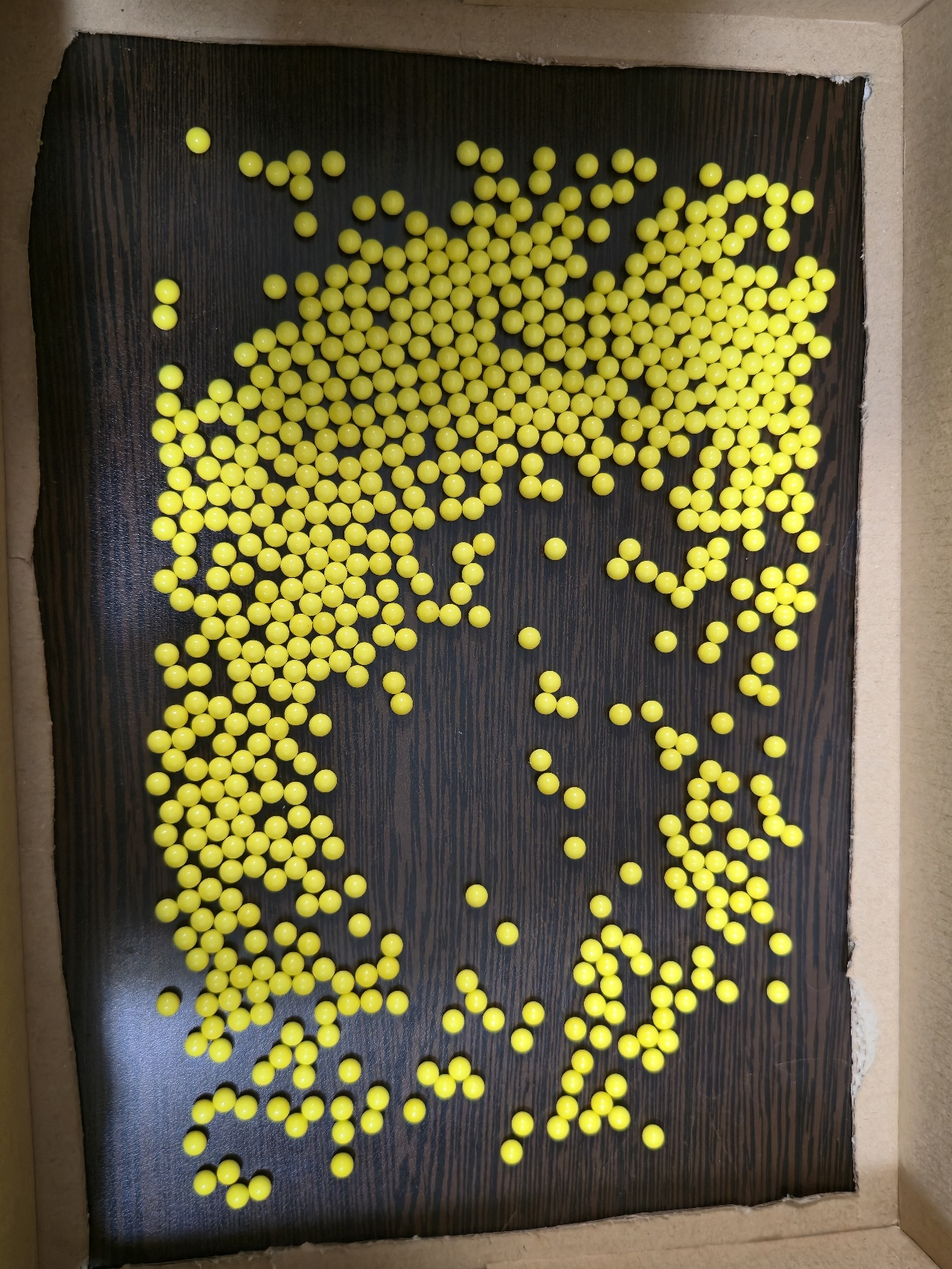yellow_bead: (158, 522, 172, 535), (212, 487, 225, 501), (173, 472, 187, 485), (202, 462, 216, 475), (216, 441, 230, 454), (213, 385, 227, 398), (253, 738, 266, 751), (185, 515, 198, 528), (237, 490, 250, 503), (226, 468, 239, 481), (240, 449, 253, 462), (158, 424, 171, 437), (307, 1102, 319, 1116), (422, 1067, 434, 1081), (344, 1064, 356, 1078), (595, 1030, 607, 1044), (178, 562, 192, 574), (188, 492, 202, 504), (194, 133, 205, 148), (506, 1146, 518, 1159), (336, 1102, 348, 1115), (454, 1062, 466, 1075), (516, 1034, 528, 1047), (286, 1028, 298, 1041), (320, 1006, 332, 1019), (337, 976, 349, 989), (666, 966, 678, 979), (196, 913, 208, 926), (756, 907, 769, 919), (204, 883, 216, 896), (205, 850, 218, 862), (211, 823, 224, 835), (152, 777, 164, 790), (237, 756, 250, 768), (168, 754, 181, 766), (253, 708, 266, 720), (213, 701, 226, 713), (231, 620, 244, 632), (253, 608, 266, 620), (176, 593, 189, 605), (308, 576, 321, 588), (218, 548, 231, 560), (244, 539, 257, 551), (269, 529, 282, 541), (234, 517, 247, 529), (210, 513, 223, 525), (333, 508, 346, 520), (164, 497, 176, 510), (320, 485, 332, 498), (187, 439, 200, 451), (181, 415, 193, 428), (242, 391, 255, 403), (791, 283, 804, 295), (517, 1117, 528, 1131), (614, 1111, 625, 1125), (528, 1007, 539, 1021), (590, 998, 601, 1012), (791, 412, 805, 423), (567, 1076, 579, 1088), (300, 1047, 312, 1059), (680, 995, 692, 1007), (224, 994, 236, 1006), (772, 986, 784, 998), (697, 973, 709, 985), (579, 968, 591, 980), (220, 954, 232, 966), (698, 951, 710, 963), (625, 939, 637, 951), (775, 938, 787, 950), (206, 936, 218, 948), (301, 899, 313, 911), (225, 893, 237, 905), (471, 890, 483, 902), (269, 873, 281, 885), (184, 870, 196, 882), (731, 866, 743, 878), (290, 862, 302, 874), (170, 849, 182, 861), (275, 844, 287, 856), (228, 841, 240, 853), (298, 840, 310, 852), (252, 837, 264, 849), (160, 829, 172, 841), (270, 821, 282, 833), (237, 820, 249, 832), (222, 803, 234, 815), (280, 743, 292, 755), (271, 722, 283, 734), (233, 664, 245, 676), (161, 649, 173, 661), (358, 648, 370, 660), (378, 629, 390, 641), (207, 622, 219, 634), (349, 582, 361, 594), (416, 578, 428, 590), (286, 559, 298, 571), (352, 559, 364, 571), (263, 553, 275, 565), (372, 535, 384, 547), (315, 530, 327, 542), (257, 509, 269, 521), (358, 505, 370, 517), (344, 486, 356, 498), (301, 470, 313, 482), (422, 466, 434, 478), (344, 463, 356, 475), (280, 459, 292, 471), (263, 442, 275, 454), (718, 433, 730, 445), (242, 426, 254, 438), (202, 405, 214, 417), (768, 396, 780, 408), (284, 376, 296, 388), (814, 341, 826, 353), (259, 335, 271, 347), (750, 293, 762, 305), (817, 274, 829, 286), (718, 263, 730, 275), (769, 211, 781, 223), (730, 186, 742, 198), (245, 158, 257, 170), (648, 1130, 659, 1143), (468, 1081, 479, 1094), (440, 1080, 451, 1093), (611, 1079, 622, 1092), (257, 1068, 268, 1081), (570, 1023, 581, 1036), (448, 1015, 459, 1028), (609, 1006, 620, 1019), (392, 996, 403, 1009), (275, 977, 286, 990), (318, 963, 329, 976), (257, 963, 270, 974), (180, 932, 191, 945), (225, 866, 238, 877), (189, 834, 202, 845), (785, 830, 798, 841), (768, 821, 781, 832), (316, 820, 327, 833), (165, 806, 178, 817), (214, 762, 227, 773), (153, 736, 166, 747), (230, 719, 243, 730), (190, 697, 203, 708), (238, 687, 251, 698), (274, 684, 287, 695), (247, 646, 260, 657), (292, 643, 305, 654), (223, 643, 236, 654), (271, 627, 284, 638), (212, 572, 223, 585), (310, 507, 323, 518), (250, 472, 263, 483), (800, 452, 813, 463), (742, 431, 755, 442), (795, 390, 808, 401), (809, 296, 822, 307), (752, 179, 763, 192), (161, 310, 171, 324), (553, 1122, 564, 1134), (585, 1117, 596, 1129), (366, 1117, 378, 1128), (648, 1055, 659, 1067), (577, 1055, 588, 1067), (274, 1053, 286, 1064), (234, 1015, 245, 1027), (256, 1009, 268, 1020), (656, 991, 668, 1002), (721, 986, 733, 997), (298, 978, 309, 990), (461, 975, 472, 987), (636, 958, 647, 970), (287, 957, 299, 968), (250, 936, 262, 947), (354, 919, 365, 931), (219, 917, 231, 928), (711, 914, 723, 925), (161, 905, 173, 916), (324, 896, 336, 907), (183, 896, 195, 907), (752, 882, 764, 893), (350, 880, 361, 892), (626, 867, 637, 879), (753, 844, 765, 855), (327, 842, 338, 854), (695, 828, 707, 839), (715, 806, 727, 817), (266, 786, 278, 797), (756, 780, 768, 791), (320, 775, 332, 786), (705, 765, 716, 777), (315, 719, 327, 730), (298, 687, 310, 698), (544, 676, 556, 687), (170, 671, 182, 682), (289, 665, 300, 677), (334, 655, 346, 666), (316, 641, 328, 652), (781, 634, 793, 645), (445, 609, 456, 621), (305, 599, 317, 610), (286, 583, 298, 594), (660, 577, 672, 588), (689, 574, 701, 585), (766, 572, 778, 583), (467, 568, 478, 580), (402, 561, 414, 572), (692, 552, 704, 563), (458, 547, 469, 559), (803, 536, 815, 547), (704, 515, 715, 527), (724, 515, 736, 526), (288, 515, 300, 526), (797, 498, 809, 509), (696, 495, 707, 507), (725, 492, 736, 504), (268, 489, 280, 500), (448, 480, 460, 491), (365, 478, 377, 489), (397, 471, 408, 483), (775, 458, 787, 469), (321, 457, 332, 469), (443, 457, 455, 468), (466, 454, 477, 466), (365, 454, 377, 465), (300, 446, 312, 457), (804, 431, 816, 442), (523, 430, 534, 442), (285, 427, 297, 438), (389, 420, 400, 432), (538, 414, 550, 425), (227, 407, 239, 418), (554, 395, 565, 407), (721, 393, 733, 404), (757, 377, 768, 389), (732, 373, 743, 385), (690, 362, 701, 374), (747, 358, 758, 370), (274, 353, 286, 364), (759, 338, 770, 350), (798, 327, 810, 338), (396, 303, 407, 315), (800, 262, 812, 273), (740, 220, 752, 231), (797, 196, 808, 208), (624, 1040, 634, 1053), (367, 995, 377, 1008), (248, 861, 261, 871), (193, 668, 206, 678), (159, 578, 172, 588), (164, 285, 174, 298), (169, 370, 178, 384), (663, 1036, 674, 1047), (602, 959, 613, 970), (502, 928, 513, 939), (681, 892, 692, 903), (308, 876, 319, 887), (710, 856, 721, 867), (733, 833, 744, 844), (665, 820, 676, 831), (183, 789, 194, 800), (693, 783, 704, 794), (666, 754, 677, 765), (540, 698, 551, 709), (757, 658, 768, 669), (661, 636, 672, 647), (474, 611, 485, 622), (362, 601, 373, 612), (761, 597, 772, 608), (677, 592, 688, 603), (327, 591, 338, 602), (382, 585, 393, 596), (641, 566, 652, 577), (710, 565, 721, 576), (334, 544, 345, 555), (713, 543, 724, 554), (550, 543, 561, 554), (419, 513, 430, 524), (468, 503, 479, 514), (379, 496, 390, 507), (675, 492, 686, 503), (408, 492, 419, 503), (547, 484, 558, 495), (736, 473, 747, 484), (699, 473, 710, 484), (584, 460, 595, 471), (733, 451, 744, 462), (502, 449, 513, 460), (388, 449, 399, 460), (167, 449, 178, 460), (597, 442, 608, 453), (408, 438, 419, 449), (547, 437, 558, 448), (654, 431, 665, 442), (587, 422, 598, 433), (462, 420, 473, 431), (774, 419, 785, 430), (562, 417, 573, 428), (412, 415, 423, 426), (754, 412, 765, 423), (731, 412, 742, 423), (710, 412, 721, 423), (701, 388, 712, 399), (257, 371, 268, 382), (768, 359, 779, 370), (365, 355, 376, 366), (297, 347, 308, 358), (458, 315, 469, 326), (437, 305, 448, 316), (350, 290, 361, 301), (272, 168, 283, 179), (605, 982, 617, 992), (587, 945, 597, 957), (387, 939, 397, 951), (607, 930, 617, 942), (596, 901, 606, 913), (736, 896, 746, 908), (689, 855, 699, 867), (672, 841, 684, 851), (245, 797, 257, 807), (230, 780, 242, 790), (769, 742, 781, 752), (352, 671, 364, 681), (456, 588, 466, 600), (736, 584, 748, 594), (791, 569, 803, 579), (312, 553, 324, 563), (787, 517, 799, 527), (748, 491, 760, 501), (486, 466, 498, 476), (482, 436, 492, 448), (370, 431, 380, 443), (498, 422, 510, 432), (264, 416, 274, 428), (404, 393, 414, 405), (500, 393, 510, 405), (739, 332, 749, 344), (774, 319, 784, 331), (762, 271, 772, 283), (740, 271, 750, 283), (177, 733, 190, 742), (190, 640, 203, 649), (178, 541, 191, 550), (745, 515, 758, 524), (209, 1023, 219, 1034), (192, 954, 203, 964), (280, 928, 291, 938), (671, 873, 681, 884), (570, 842, 580, 853), (194, 812, 205, 822), (692, 806, 703, 816), (764, 800, 775, 810), (570, 792, 580, 803), (724, 777, 734, 788), (536, 754, 546, 765), (682, 739, 692, 750), (662, 732, 672, 743), (615, 709, 626, 719), (745, 680, 756, 690), (704, 648, 715, 658), (524, 633, 535, 643), (712, 627, 723, 637), (743, 616, 754, 626), (800, 597, 811, 607), (613, 563, 623, 574), (350, 529, 361, 539), (683, 515, 694, 525), (527, 459, 538, 469), (706, 452, 716, 463), (644, 452, 655, 462), (619, 449, 630, 459), (569, 439, 580, 449), (669, 414, 679, 425), (517, 408, 527, 419), (289, 404, 300, 414), (599, 401, 609, 412), (577, 399, 588, 409), (681, 396, 692, 406), (533, 391, 543, 402), (379, 375, 390, 385), (546, 373, 556, 384), (402, 370, 412, 381), (389, 350, 399, 361), (415, 342, 425, 353), (437, 329, 448, 339), (418, 317, 428, 328), (753, 316, 763, 327), (733, 311, 743, 322), (634, 304, 644, 315), (690, 299, 700, 310), (328, 294, 338, 305), (416, 292, 426, 303), (669, 292, 679, 303), (728, 289, 738, 300), (254, 1182, 266, 1191), (289, 791, 301, 800), (190, 763, 202, 772), (219, 739, 231, 748), (779, 611, 791, 620), (261, 585, 273, 594), (396, 515, 408, 524), (675, 440, 684, 452), (516, 376, 525, 388), (718, 327, 727, 339), (707, 245, 716, 257), (712, 223, 721, 235), (199, 603, 212, 611), (713, 892, 723, 902), (718, 718, 728, 728), (647, 706, 657, 716), (764, 690, 774, 700), (376, 558, 386, 568), (648, 474, 658, 484), (759, 471, 769, 481), (165, 398, 175, 408), (314, 366, 324, 376), (726, 352, 736, 362), (706, 346, 716, 356), (685, 341, 695, 351), (480, 325, 490, 335), (357, 313, 367, 323), (457, 292, 467, 302), (270, 282, 280, 292), (412, 245, 422, 255), (692, 207, 702, 217), (641, 164, 651, 174), (339, 1161, 348, 1172), (215, 1044, 226, 1053), (254, 986, 263, 997), (213, 976, 222, 987), (207, 785, 218, 794), (170, 710, 181, 719), (396, 698, 407, 707), (257, 672, 268, 681), (401, 634, 412, 643), (782, 588, 791, 599), (446, 504, 457, 513), (599, 478, 608, 489), (321, 436, 332, 445), (443, 433, 452, 444), (346, 429, 355, 440), (692, 417, 701, 428), (314, 412, 323, 423), (437, 411, 446, 422), (267, 394, 278, 403), (474, 385, 483, 396), (358, 382, 367, 393), (591, 380, 600, 391), (713, 368, 722, 379), (605, 362, 614, 373), (344, 362, 353, 373), (507, 355, 518, 364), (282, 329, 293, 338), (396, 327, 405, 338), (698, 321, 707, 332), (677, 317, 686, 328), (509, 316, 518, 327), (713, 304, 722, 315), (374, 294, 385, 303), (708, 282, 717, 293), (713, 200, 722, 211), (412, 1106, 420, 1118), (240, 1102, 252, 1110), (219, 1094, 231, 1102), (293, 815, 305, 823), (299, 762, 311, 770), (312, 667, 324, 675), (387, 608, 399, 616), (236, 568, 248, 576), (396, 539, 408, 547), (244, 349, 252, 361), (329, 571, 342, 578), (389, 677, 399, 686), (228, 601, 237, 611), (486, 489, 496, 498), (361, 410, 370, 420), (483, 407, 492, 417), (625, 402, 634, 412), (381, 399, 391, 408), (614, 383, 623, 393), (675, 375, 684, 385), (329, 343, 338, 353), (660, 331, 669, 341), (570, 304, 579, 314), (485, 302, 494, 312), (614, 296, 623, 306), (550, 293, 559, 303), (631, 282, 640, 292), (652, 276, 661, 286), (393, 276, 402, 286), (553, 270, 562, 280), (518, 262, 527, 272), (538, 251, 547, 261), (368, 246, 377, 256), (663, 214, 672, 224), (565, 1102, 573, 1113), (191, 1039, 202, 1047), (243, 909, 254, 917), (260, 768, 271, 776), (478, 539, 489, 547), (292, 495, 303, 503), (646, 411, 654, 422), (654, 370, 662, 381), (620, 341, 628, 352), (464, 339, 472, 350), (351, 335, 359, 346), (312, 327, 320, 338), (530, 306, 538, 317), (669, 261, 677, 272), (688, 252, 696, 263), (559, 242, 567, 253), (599, 190, 607, 201), (620, 185, 628, 196), (372, 1092, 384, 1099), (298, 1072, 310, 1079), (475, 996, 482, 1008), (290, 712, 302, 719), (271, 655, 283, 662), (341, 636, 353, 643), (341, 613, 353, 620), (277, 608, 289, 615), (552, 318, 559, 330), (295, 619, 304, 628), (309, 388, 318, 397), (572, 353, 581, 362), (596, 321, 605, 330), (687, 275, 696, 284), (457, 269, 466, 278), (356, 267, 365, 276), (634, 260, 643, 269), (495, 245, 504, 254), (475, 233, 484, 242), (481, 210, 490, 219), (550, 209, 559, 218), (362, 969, 370, 979), (383, 963, 393, 971), (198, 719, 208, 727), (456, 399, 464, 409), (660, 393, 668, 403), (630, 362, 638, 372), (531, 358, 539, 368), (647, 349, 655, 359), (657, 309, 665, 319), (530, 283, 538, 293), (498, 269, 506, 279), (416, 269, 424, 279), (574, 260, 582, 270), (390, 254, 400, 262), (292, 542, 305, 548), (488, 1013, 499, 1020), (562, 706, 573, 713), (525, 485, 536, 492), (640, 327, 647, 338), (439, 281, 446, 292), (598, 225, 605, 236), (326, 1030, 335, 1038), (345, 1001, 353, 1010), (629, 425, 637, 434), (332, 385, 341, 393), (570, 376, 579, 384), (670, 353, 678, 362), (347, 237, 356, 245), (505, 184, 513, 193), (707, 169, 716, 177), (295, 159, 304, 167), (466, 149, 474, 158), (625, 548, 635, 555), (748, 535, 758, 542), (451, 376, 458, 386), (553, 344, 560, 354), (532, 330, 539, 340), (337, 318, 344, 328), (520, 237, 527, 247), (646, 224, 653, 234), (695, 229, 701, 240), (300, 181, 306, 192), (306, 938, 314, 946), (334, 272, 342, 280), (460, 208, 468, 216), (390, 199, 398, 207), (672, 193, 680, 201), (537, 177, 545, 185), (585, 161, 593, 169), (620, 156, 628, 164), (646, 1032, 653, 1041), (477, 257, 484, 266), (773, 237, 780, 246), (540, 228, 547, 237), (233, 1190, 243, 1196), (510, 290, 516, 300), (167, 999, 174, 1007), (447, 354, 454, 362), (487, 350, 494, 358), (620, 319, 627, 327), (434, 234, 441, 242), (303, 220, 310, 228), (338, 1129, 349, 1134), (774, 495, 783, 501), (521, 204, 527, 213), (485, 183, 491, 192), (205, 1002, 210, 1012), (729, 928, 739, 933), (431, 388, 436, 398), (376, 334, 383, 341), (663, 1016, 669, 1024), (239, 971, 245, 979), (428, 365, 434, 373), (594, 299, 600, 307), (654, 246, 660, 254), (790, 478, 799, 483), (595, 344, 601, 351), (309, 306, 315, 313), (573, 223, 579, 230), (416, 219, 422, 226), (332, 161, 338, 168), (544, 155, 550, 162), (495, 372, 500, 380), (605, 277, 610, 285), (675, 237, 680, 245), (492, 156, 497, 164), (229, 1168, 234, 1175), (472, 364, 477, 371), (574, 330, 579, 337), (506, 221, 511, 228), (481, 280, 485, 288), (548, 783, 554, 788), (306, 280, 311, 286), (438, 260, 443, 266), (364, 205, 369, 211), (458, 247, 463, 252), (570, 196, 575, 201), (199, 1178, 205, 1182), (731, 238, 738, 241), (429, 610, 434, 614), (341, 410, 345, 414), (787, 438, 794, 440), (774, 296, 776, 303), (782, 377, 788, 379), (780, 350, 784, 353), (702, 875, 707, 877), (167, 409, 172, 411), (190, 1140, 194, 1142), (739, 932, 741, 936), (199, 1143, 201, 1146), (791, 312, 793, 315), (199, 1108, 201, 1110), (323, 1033, 325, 1035), (787, 482, 788, 486), (798, 359, 802, 360), (802, 307, 804, 309), (779, 293, 782, 294), (209, 1183, 210, 1185), (223, 1170, 225, 1171), (698, 878, 699, 880), (543, 783, 544, 785), (329, 621, 330, 623), (223, 603, 224, 605), (795, 441, 796, 443), (781, 342, 782, 344), (196, 1141, 197, 1142), (771, 499, 772, 500), (789, 381, 790, 382), (788, 379, 789, 380), (789, 341, 790, 342), (783, 341, 784, 342), (800, 306, 801, 307), (785, 295, 786, 296), (777, 294, 778, 295), (772, 198, 773, 199), (771, 196, 772, 197), (778, 188, 779, 189), (701, 876, 701, 877), (193, 817, 193, 817), (759, 539, 760, 539), (158, 527, 158, 527), (761, 449, 764, 449), (188, 428, 189, 428), (794, 364, 794, 367), (805, 362, 805, 363), (803, 360, 803, 361), (785, 341, 788, 341), (797, 306, 800, 306), (738, 242, 739, 242)
